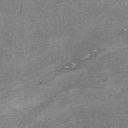finishing roll printing: (40, 49, 100, 84), (118, 28, 127, 36)
